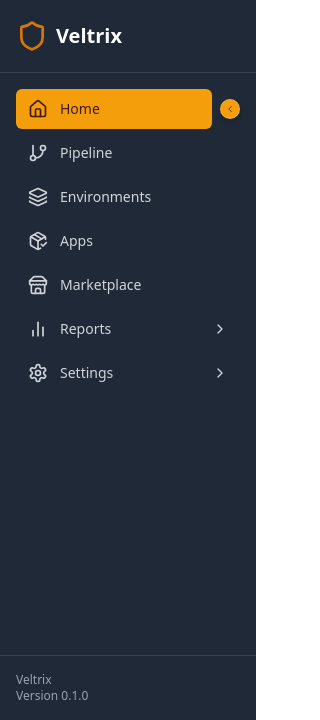
Test: Sidebar - Access Control nav item (Wave C, fail-closed) › regression: a tenant Administrator (all:all) sees Access Control exactly as before
This screenshot has width=320, height=720.
Click the button "Settings".
click(128, 373)  # box [16,353,240,393]
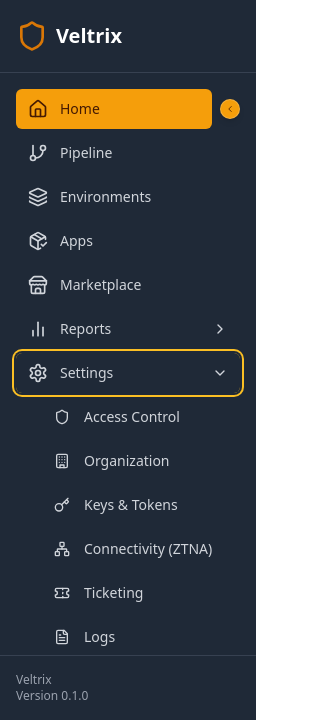
Result: the link "Access Control" is shown at [54,407,180,426]
